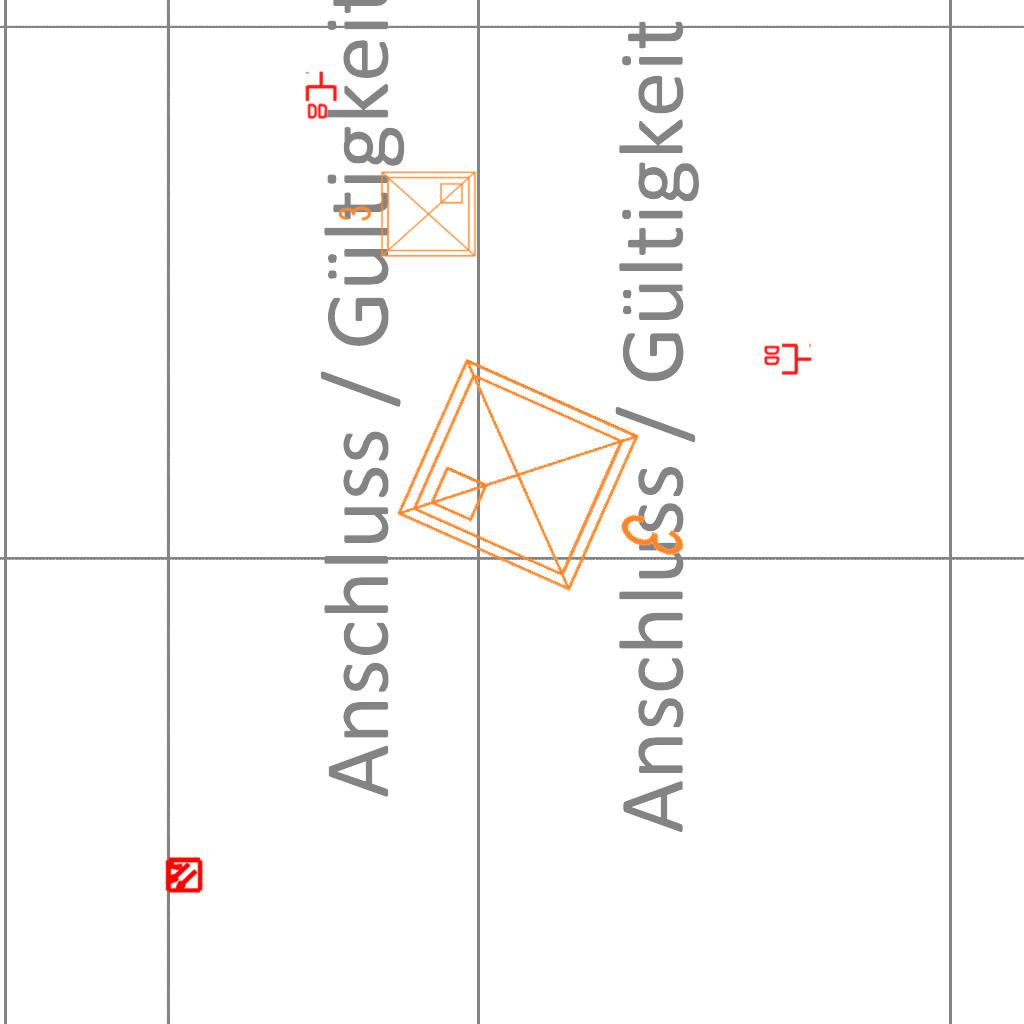Datenanschluss_zweifach: (762, 343, 813, 377), (305, 70, 339, 121)
Einbaudownlights_LED_Konferenzraeume: (377, 331, 737, 645), (333, 164, 483, 268)
OT_Multisensormelder_(Kombination_RMO_WMD): (155, 847, 211, 903)
